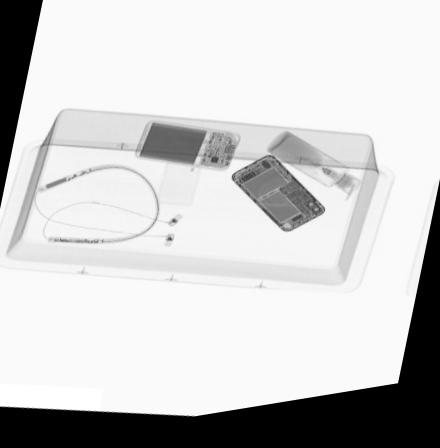Powerbank: (131, 123, 241, 178)
